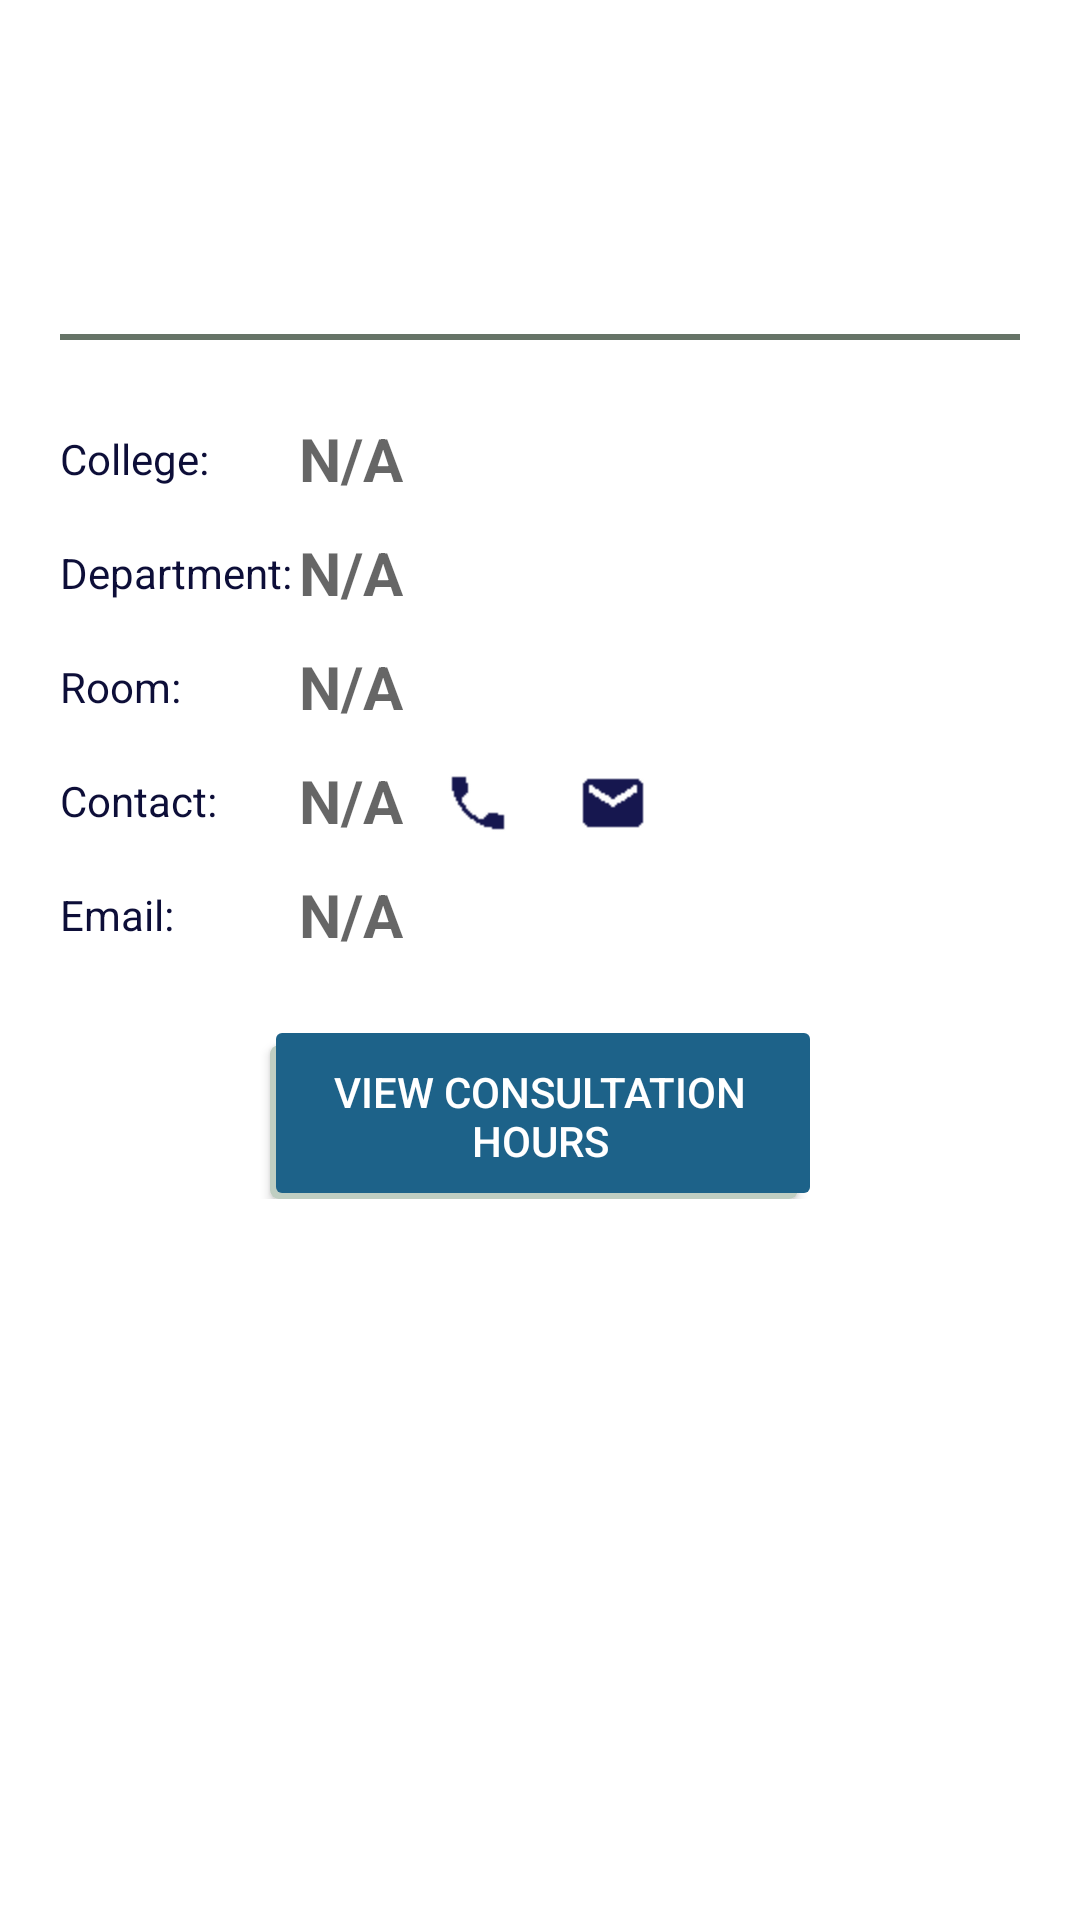

Where icons sit on this 1080x1920 app screen, as (x1, y1, x2, y2):
call: (451, 776, 505, 830)
message: (582, 778, 644, 828)
